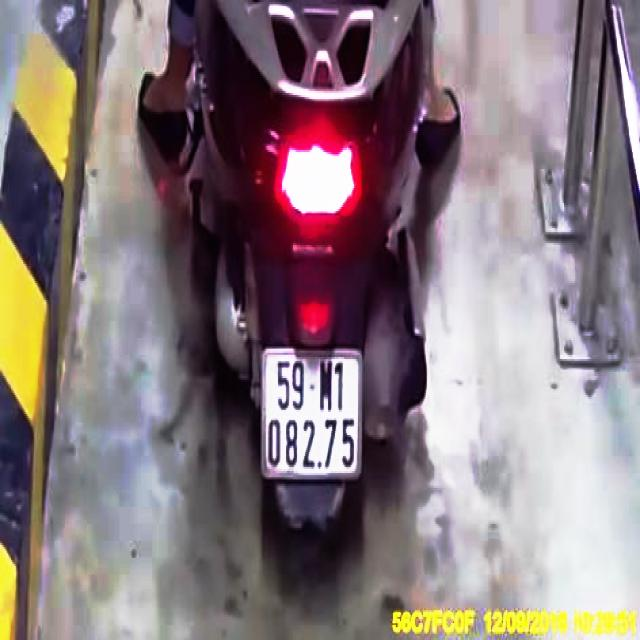license_plate: (263, 353, 362, 480)
